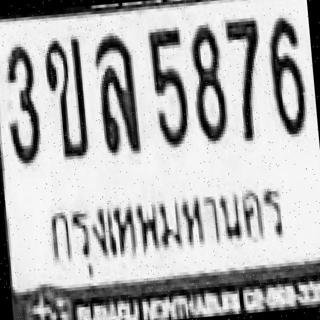A02: (41, 33, 88, 158)
A36: (92, 31, 141, 153)
N03: (0, 40, 42, 164)
N05: (145, 22, 189, 147)
N06: (265, 12, 308, 137)
N07: (223, 14, 267, 142)
N08: (188, 20, 229, 142)
P04: (38, 178, 292, 274)
